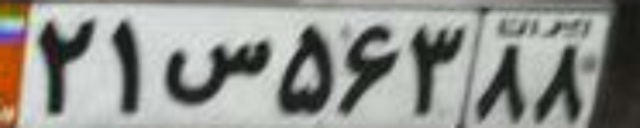1: (109, 18, 138, 111)
2: (36, 15, 96, 115)
3: (406, 24, 464, 115)
5: (276, 25, 329, 113)
6: (335, 23, 397, 113)
8: (476, 44, 526, 121), (536, 45, 586, 121)
sin: (161, 37, 267, 106)
